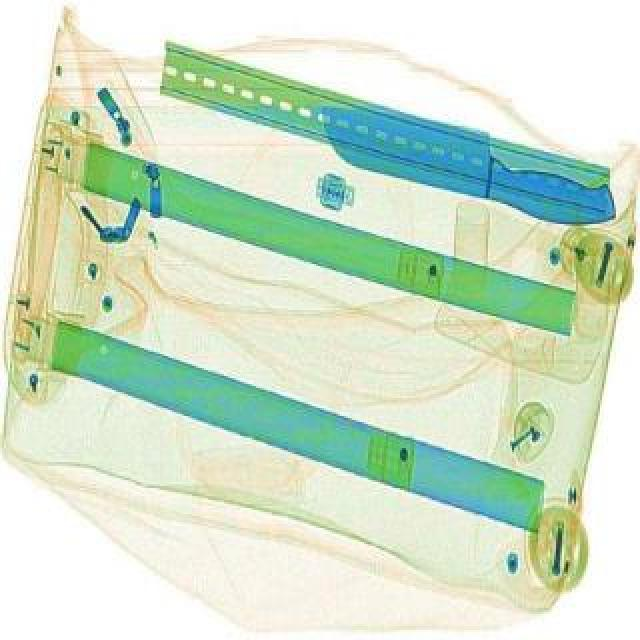knife: (306, 96, 632, 242)
